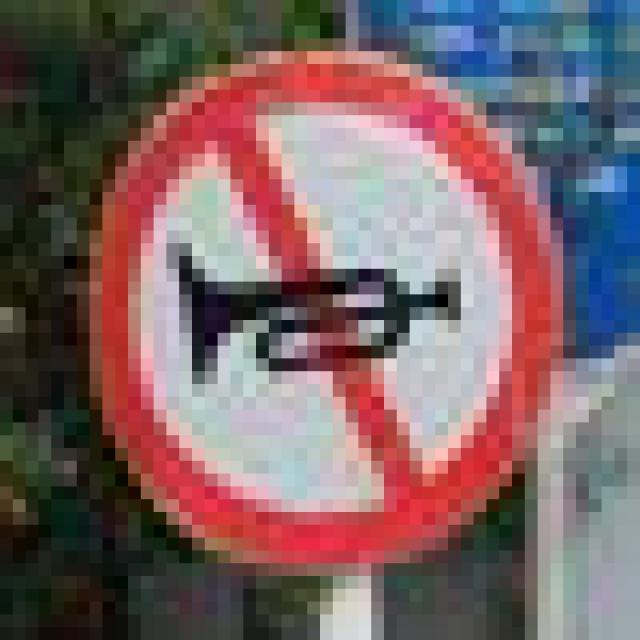horn prohibited: (84, 52, 562, 559)
